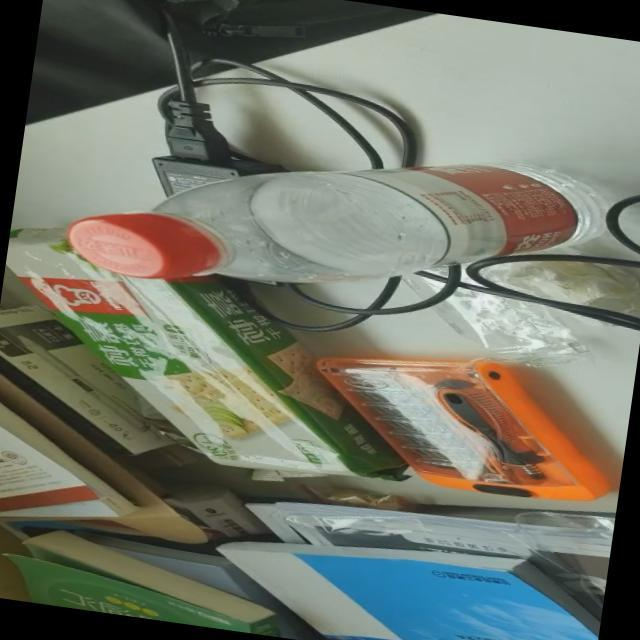good: (60, 104, 610, 340)
